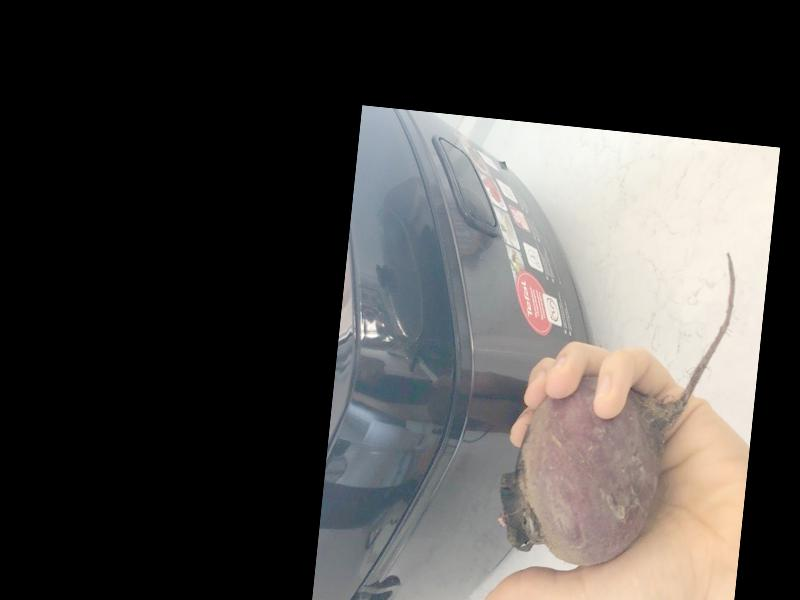Beet: (493, 231, 739, 577)
